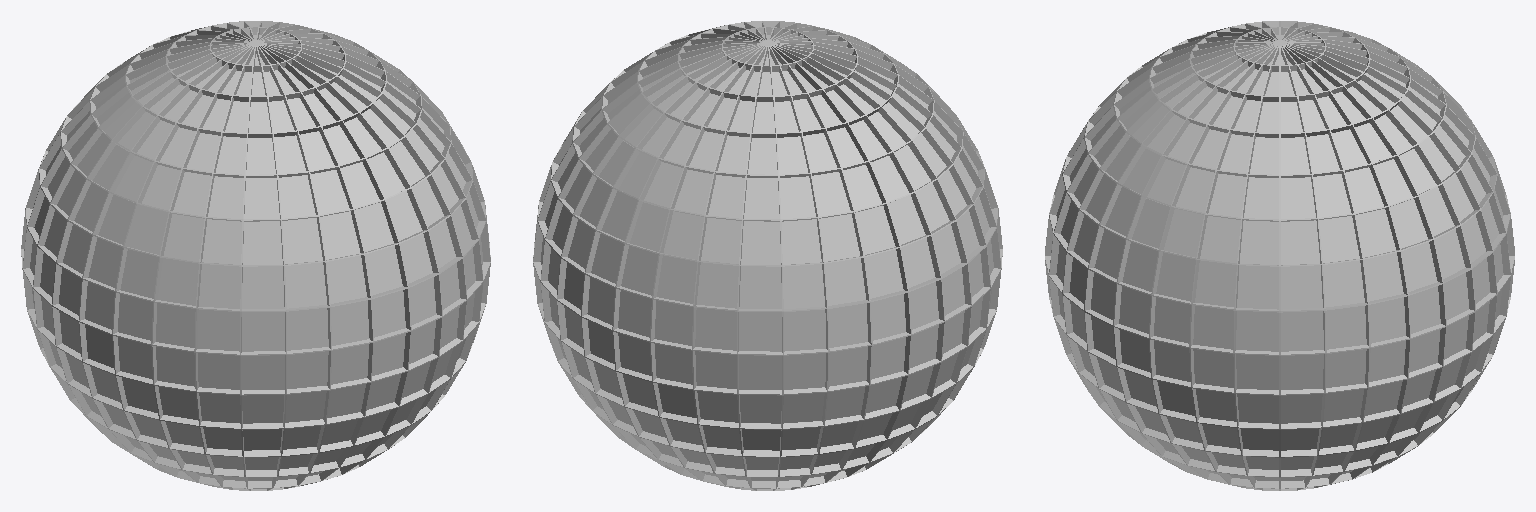
Rendered from spors.obj.
The picture shows the model from 3 angles: view 1: azimuth 30°, elevation 25°; view 2: azimuth 150°, elevation 25°; view 3: azimuth 270°, elevation 25°; orthographic projection.
Parts seen in each view (by area): view 1: Sphere_Sphere.002; view 2: Sphere_Sphere.002; view 3: Sphere_Sphere.002.
Boxes of the visible parts, x1,y1,x2,y2 form: Sphere_Sphere.002: [21, 21, 490, 490]; Sphere_Sphere.002: [533, 21, 1002, 490]; Sphere_Sphere.002: [1045, 21, 1514, 490].
Size of the model in its own units: 2.06 by 2.06 by 2.06.